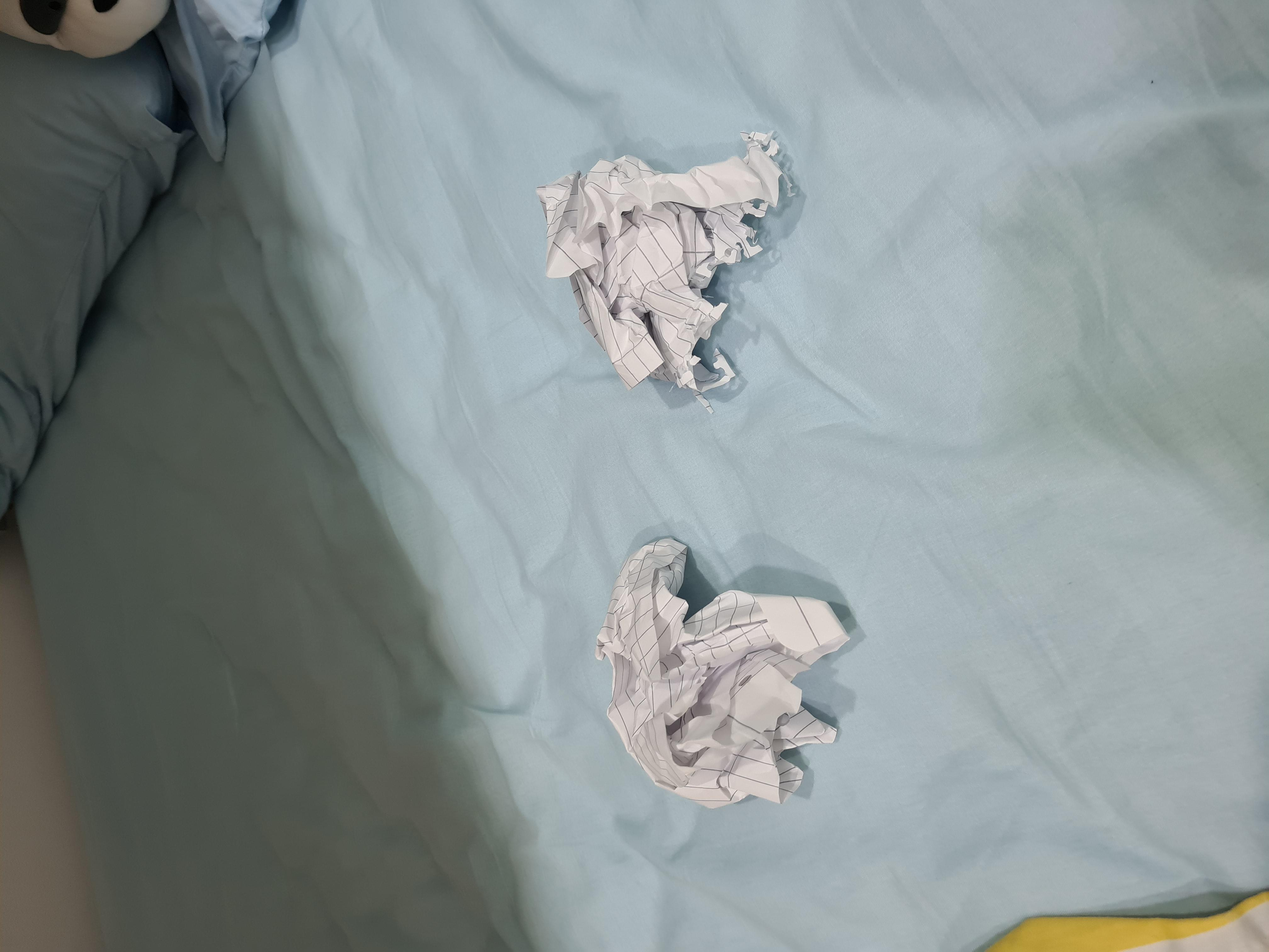paper: (198, 447, 556, 638), (736, 414, 1100, 586)
